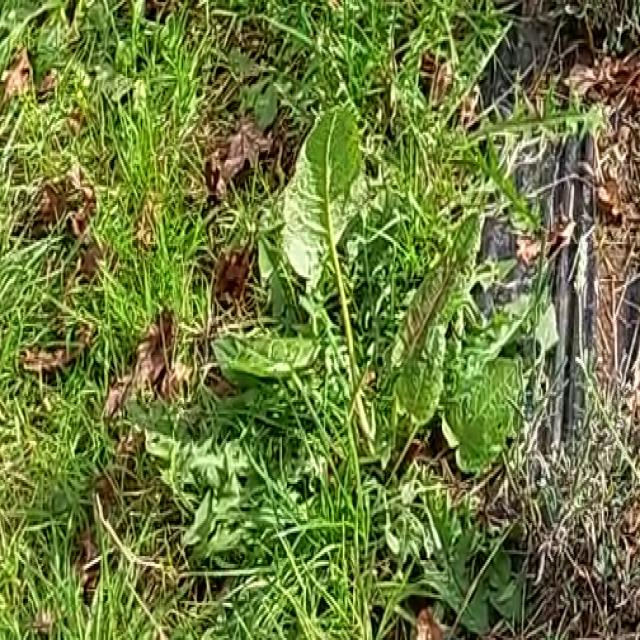organic waste: (208, 92, 524, 511)
